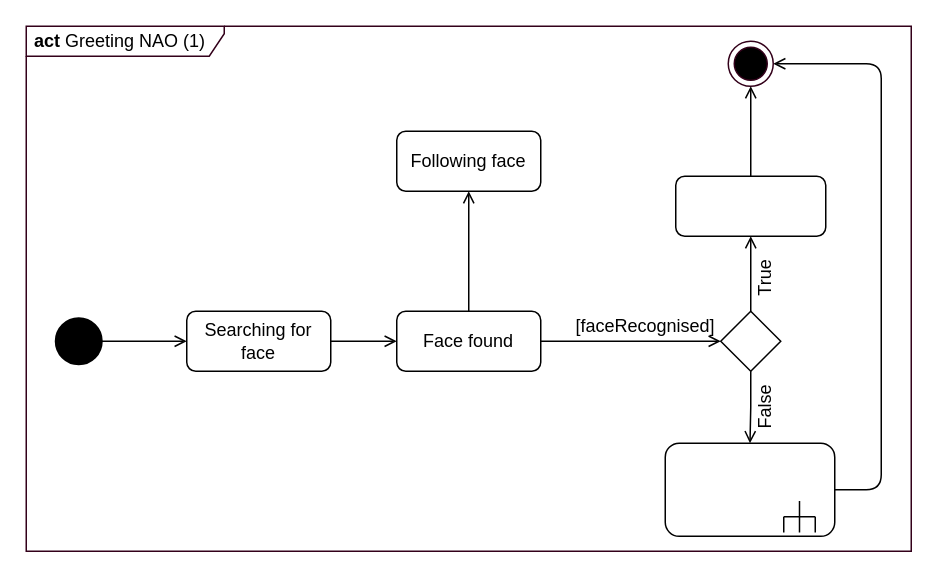
The diagram is 938 pixels wide and 578 high, and some of its shapes have lost their labels. Each missing label, with the box of its shape:
Greeting: (674, 175, 826, 236)
Learning face (1.1): (664, 442, 835, 536)
